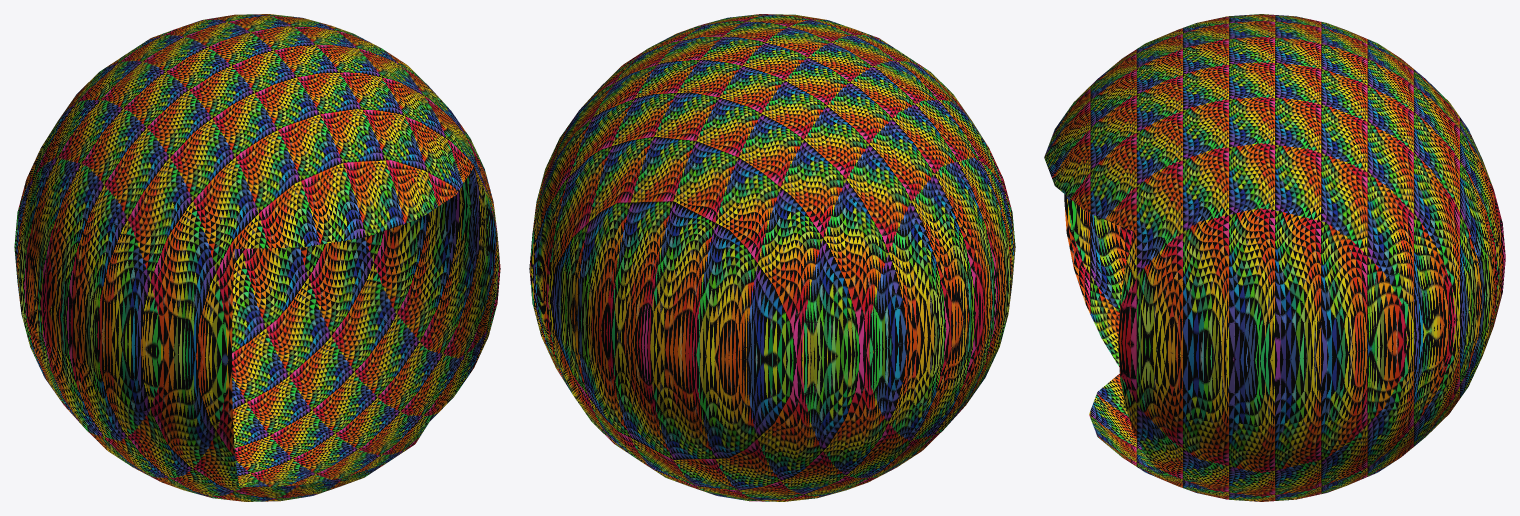
File: testDome3.fbx
3 renders of one model, left to right at view 1: azimuth 30°, elevation 25°; view 2: azimuth 150°, elevation 25°; view 3: azimuth 270°, elevation 25°, orthographic.
Visible parts, largest first — view 1: dome; view 2: dome; view 3: dome.
Part boxes in pixels (x1,y1,x2,y2): dome: [14, 14, 500, 501]; dome: [529, 14, 1015, 501]; dome: [1044, 14, 1505, 501].
Size of the model in its own units: 8104 by 8104 by 7662.
Materials: 1 (1 with a texture image).
